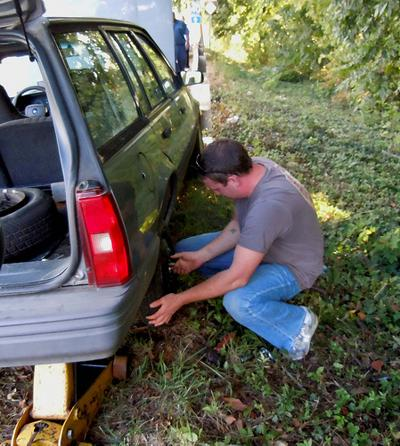person: (144, 135, 327, 364)
